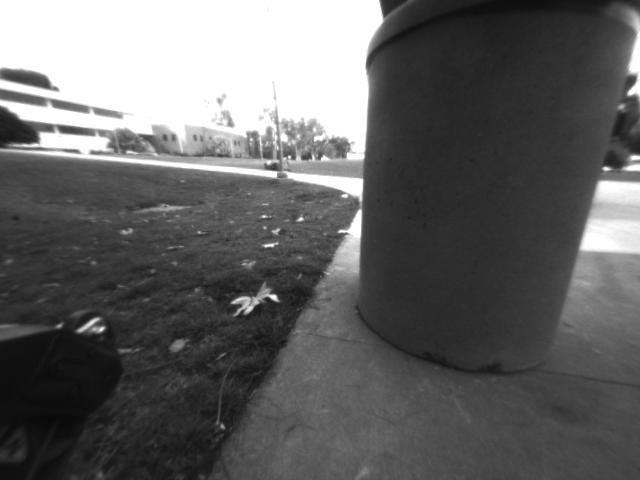trashcan: (345, 1, 640, 386)
